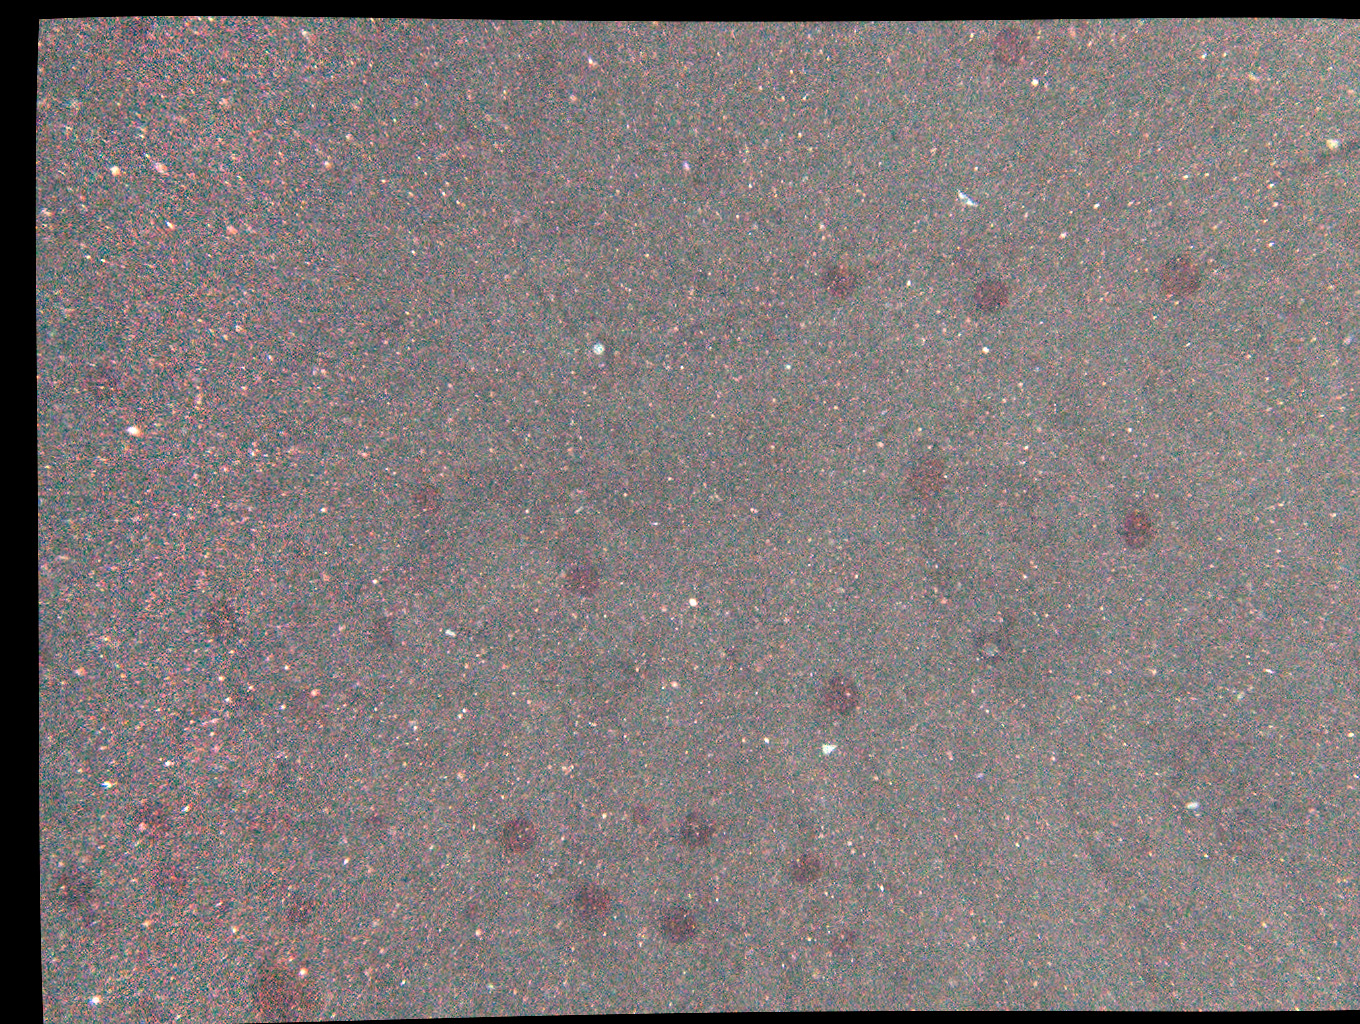Scallop: (247, 959, 335, 1024)
Substrate A: (108, 106, 148, 133)
sand dollar: (622, 790, 668, 831), (411, 477, 454, 520), (821, 921, 867, 962), (820, 256, 863, 298), (818, 674, 861, 716), (560, 556, 603, 598), (1116, 514, 1159, 556), (1151, 253, 1194, 295), (899, 455, 942, 497), (969, 278, 1012, 319), (980, 29, 1023, 71), (683, 810, 726, 852), (568, 885, 611, 927), (659, 898, 702, 940), (51, 867, 94, 909), (147, 857, 190, 899), (138, 796, 181, 838), (495, 816, 538, 858), (288, 887, 331, 929), (121, 22, 164, 63), (198, 598, 241, 640), (363, 612, 406, 654), (89, 360, 132, 402), (787, 848, 830, 890)
